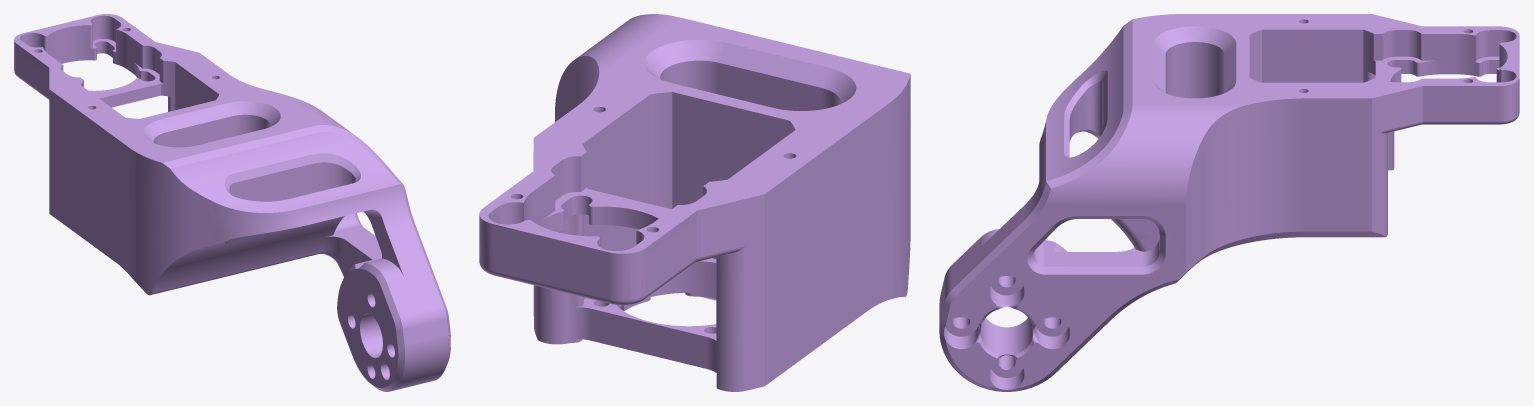
File: Main_CaseJoint4.001.dae
3 renders of one model, left to right at view 1: azimuth 30°, elevation 25°; view 2: azimuth 150°, elevation 25°; view 3: azimuth 270°, elevation 25°, orthographic. The views are drawn at different scales.
Parts seen in each view (by area): view 1: Main_CaseJoint4.000; view 2: Main_CaseJoint4.000; view 3: Main_CaseJoint4.000.
Part boxes in pixels (left/top/right/bottom): Main_CaseJoint4.000: left=14, top=14, right=450, bottom=391; Main_CaseJoint4.000: left=479, top=14, right=910, bottom=391; Main_CaseJoint4.000: left=939, top=14, right=1519, bottom=391.
Size of the model in its own units: 0.0491 by 0.0987 by 0.0485.
